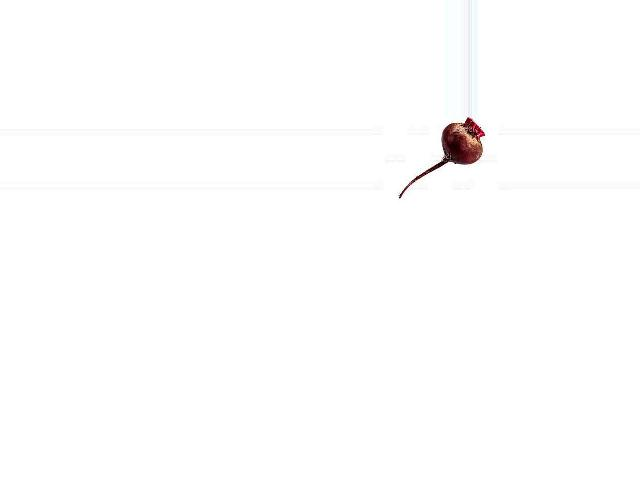beet: (398, 117, 484, 198)
